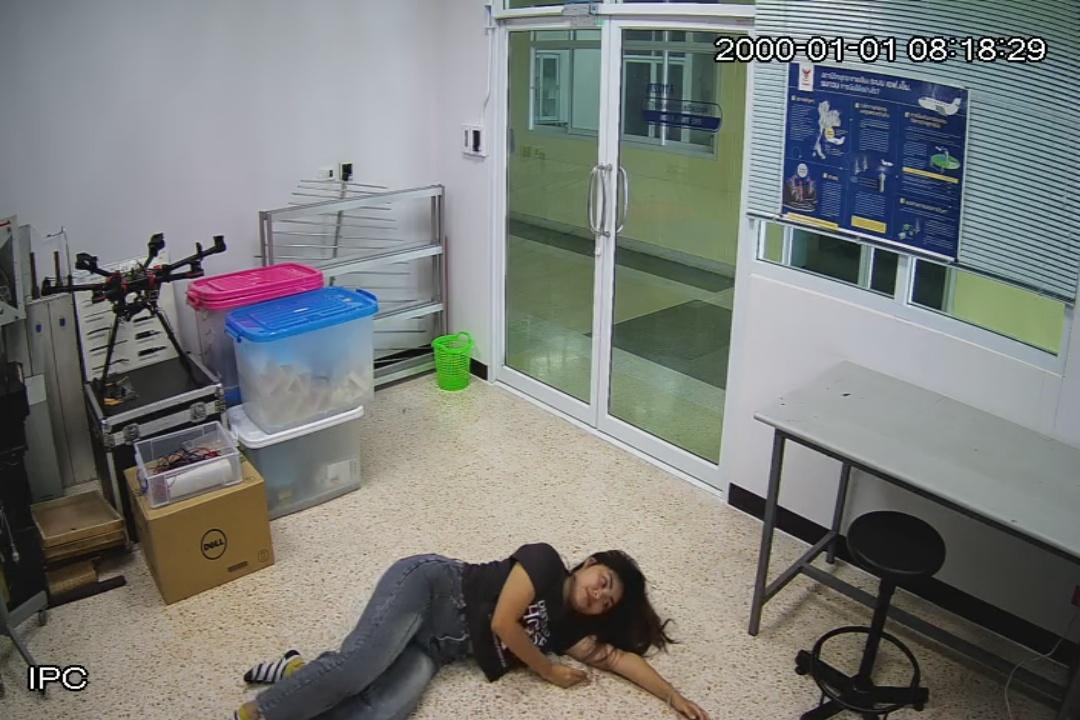fall: (223, 537, 712, 720)
